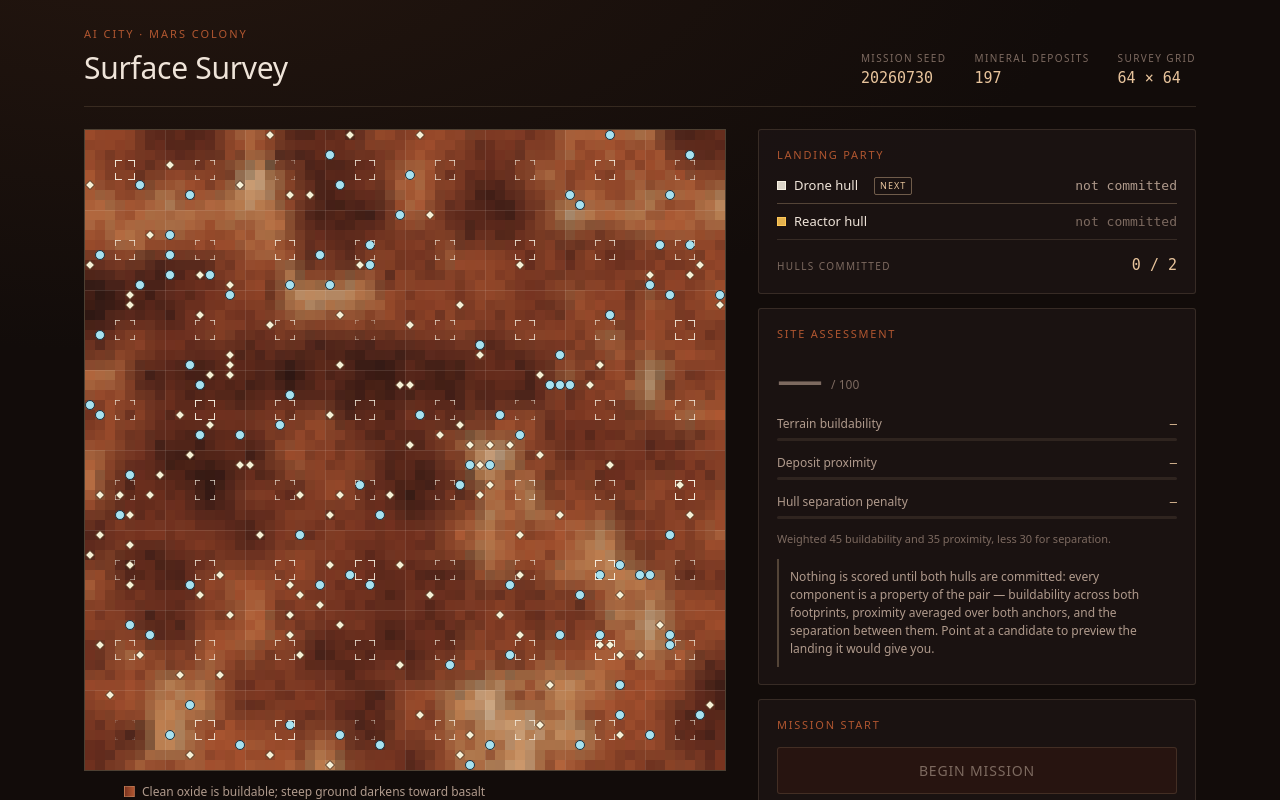
App — dispatching the landing decision › should return to an empty selection when the landing is re-plotted
Click the button named "Candidate touchdown point (3, 3) — commits the drone hull".
click(125, 170)  # box top-left (111, 156), bottom-right (139, 184)
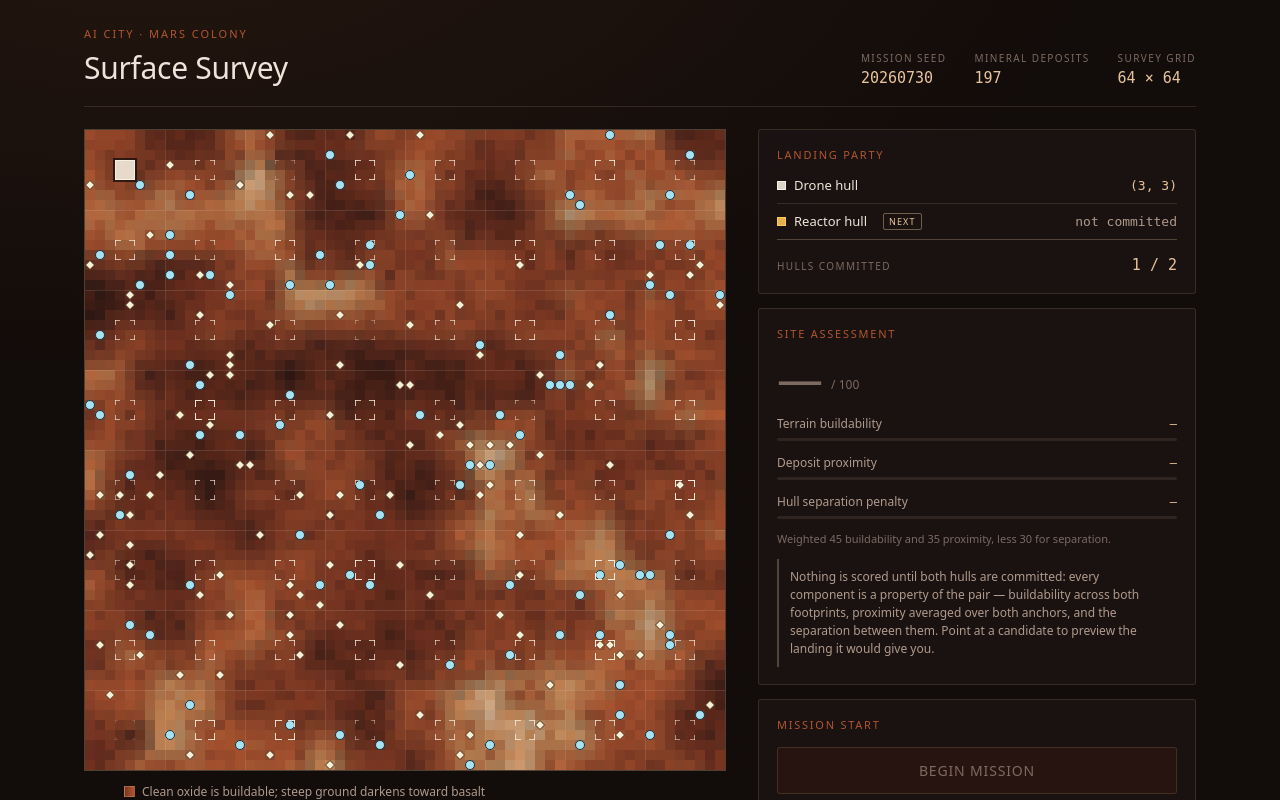
Click the button named "Candidate touchdown point (11, 3) — commits the reactor hull".
click(205, 170)  # box top-left (191, 156), bottom-right (219, 184)
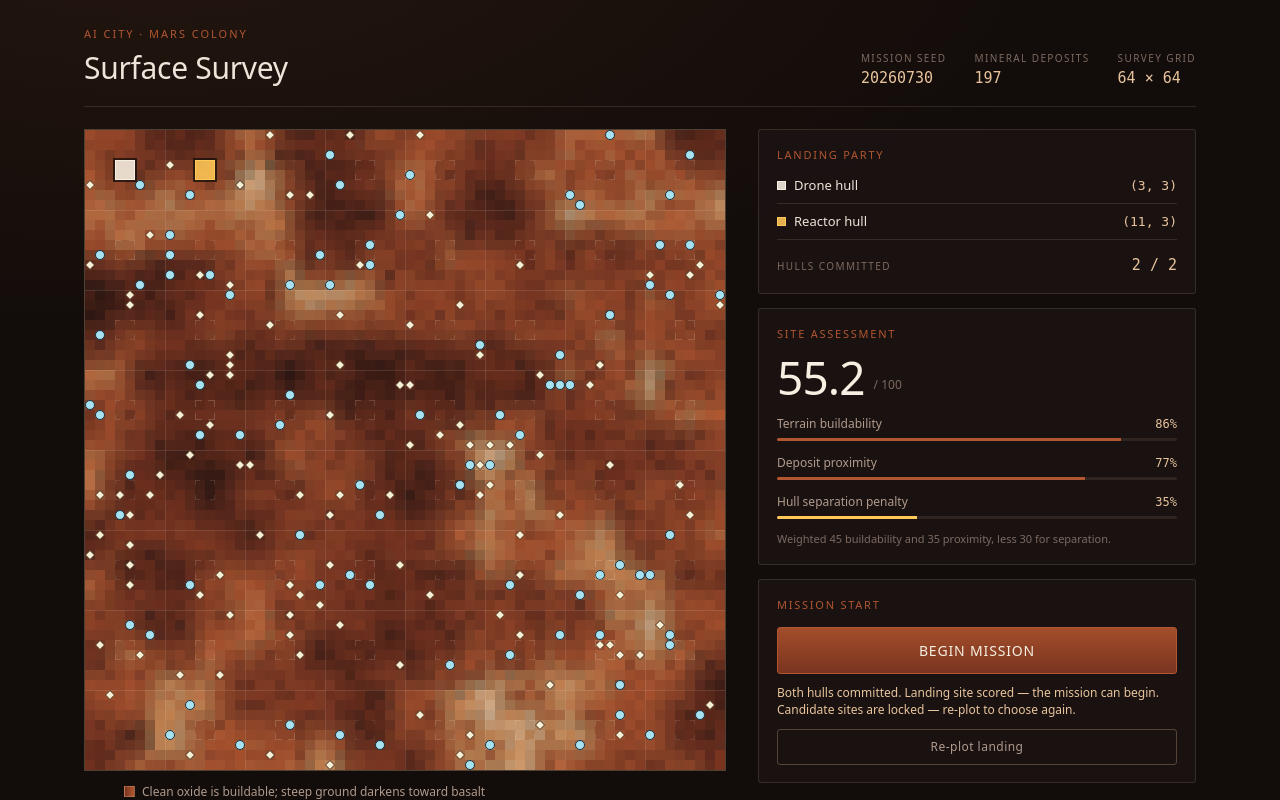
Click the button with test id "clear-selection".
click(977, 746)  # box top-left (777, 728), bottom-right (1177, 764)
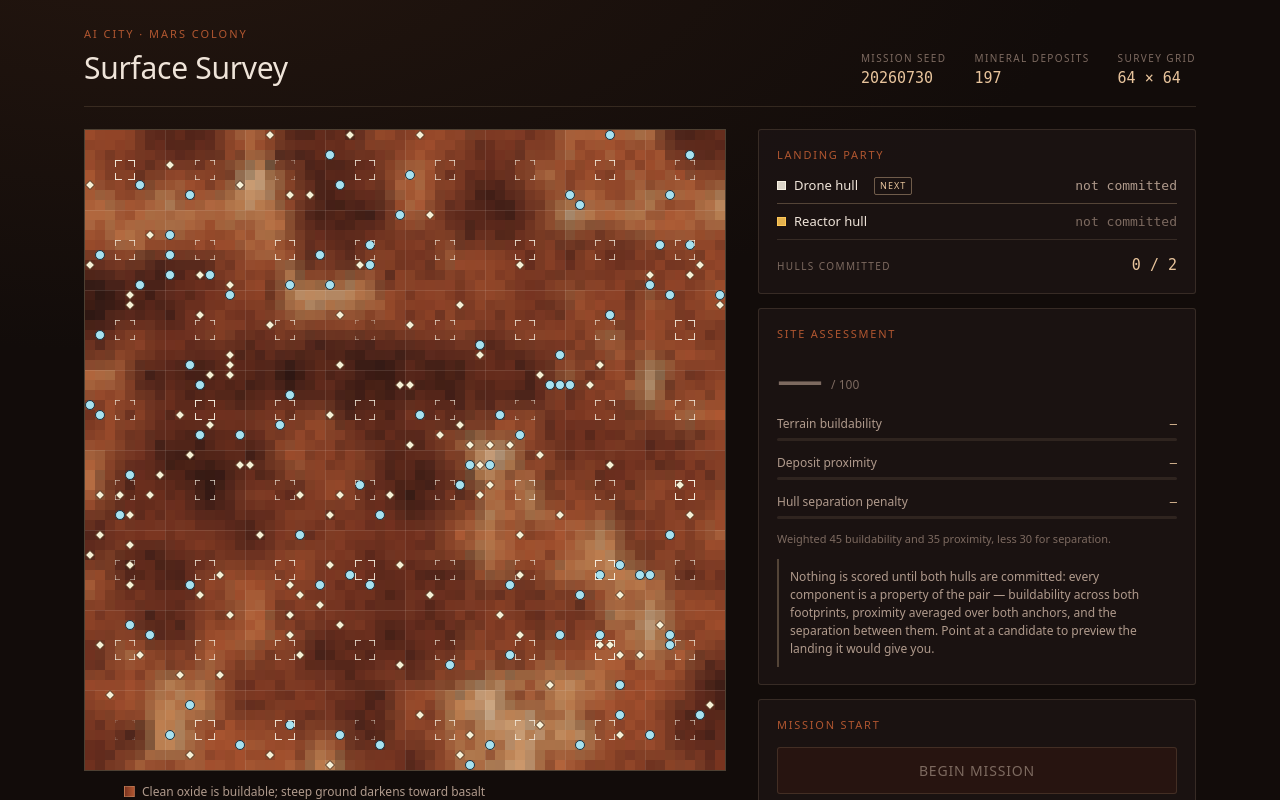
Result: the text with test id "hulls-placed" shows "0" at top-left (1132, 256), bottom-right (1177, 274)
Result: the button with test id "begin-mission" is disabled at top-left (777, 747), bottom-right (1177, 794)
